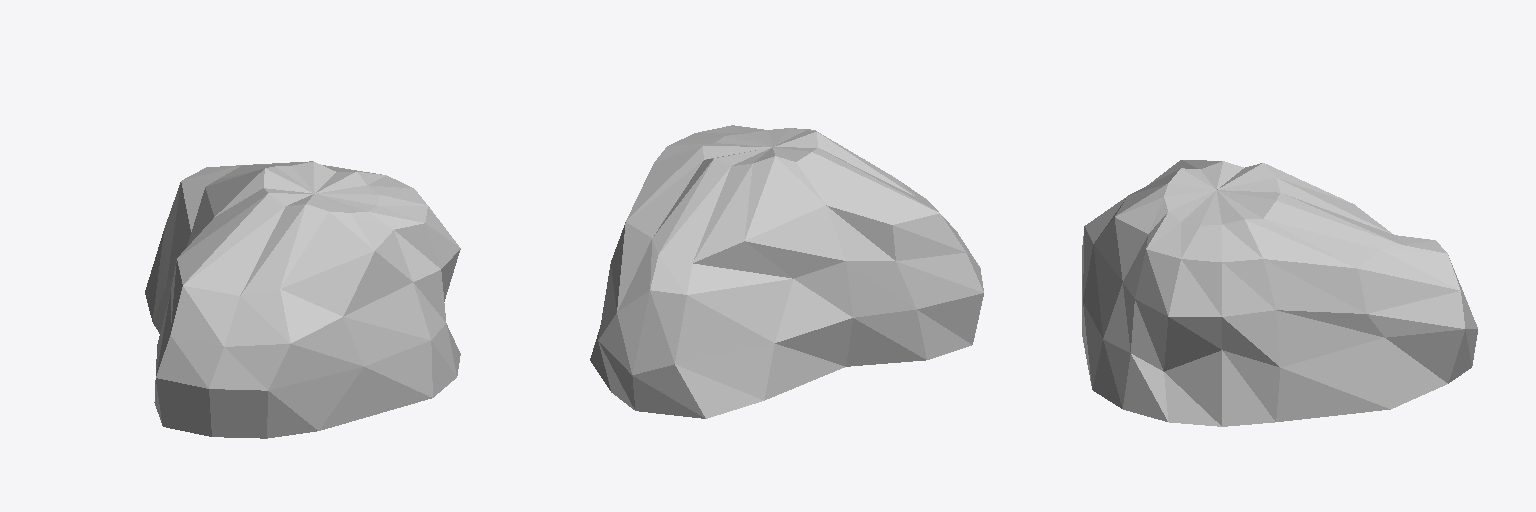
File: test rock.obj
3 views of the same model, side by side, from view 1: azimuth 30°, elevation 25°; view 2: azimuth 150°, elevation 25°; view 3: azimuth 270°, elevation 25° (orthographic).
Parts seen in each view (by area): view 1: Sphere; view 2: Sphere; view 3: Sphere.
Part boxes in pixels (bbox=[...]): Sphere: bbox=[145, 161, 460, 438]; Sphere: bbox=[590, 125, 983, 418]; Sphere: bbox=[1082, 160, 1477, 426].
Bounding box in the file's own units: 2.4 × 1.36 × 2.61.